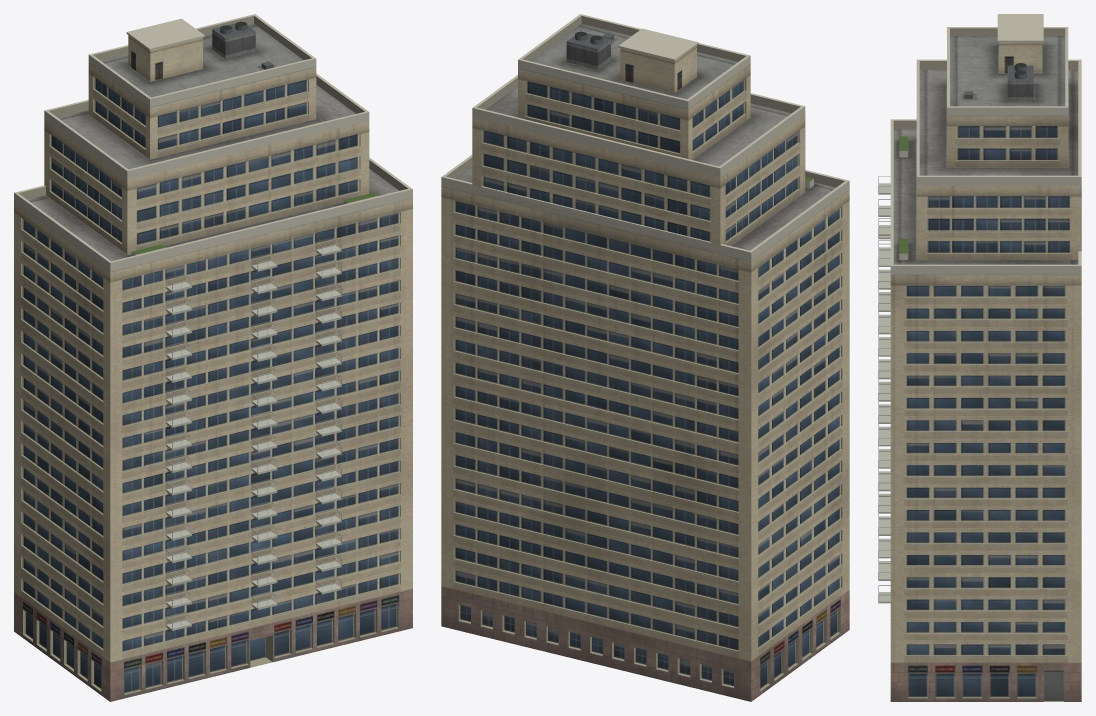
Rendered from nyc_whitebrick_b.glb.
3 views of the same model, side by side, from view 1: azimuth 30°, elevation 25°; view 2: azimuth 150°, elevation 25°; view 3: azimuth 270°, elevation 25° (orthographic). The views are drawn at different scales.
Visible parts, largest first — view 1: nyc_whitebrick_b; view 2: nyc_whitebrick_b; view 3: nyc_whitebrick_b.
Part boxes in pixels (box(x1,y1,x2,y2)): nyc_whitebrick_b: box(14, 14, 412, 701); nyc_whitebrick_b: box(441, 14, 849, 701); nyc_whitebrick_b: box(878, 14, 1081, 701).
Bounding box in the file's own units: 40 × 74.62 × 23.4.
Materials: 1 (1 with a texture image).
